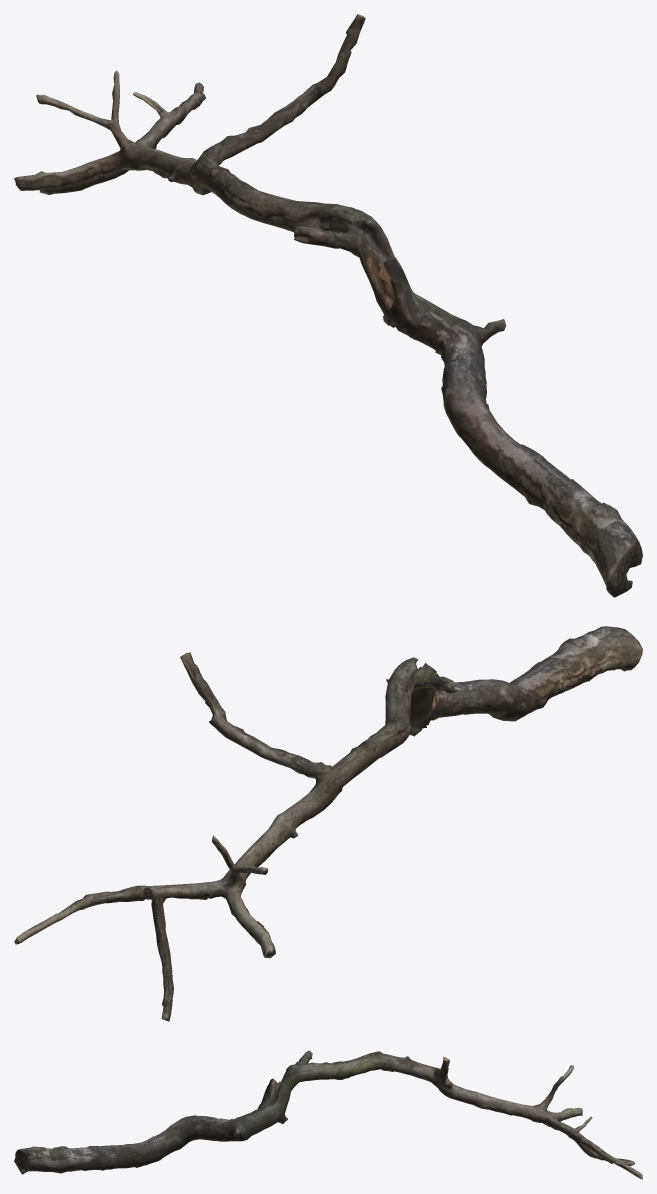
Rendered from galhos_secos.glb.
3 views of the same model, one above another, from view 1: azimuth 30°, elevation 25°; view 2: azimuth 150°, elevation 25°; view 3: azimuth 270°, elevation 25° (orthographic). The views are drawn at different scales.
Parts seen in each view (by area): view 1: dry_branches_medium_01_a; view 2: dry_branches_medium_01_a; view 3: dry_branches_medium_01_a.
Boxes of the visible parts, x1=… form: dry_branches_medium_01_a: x1=14, y1=14, x2=642, y2=597; dry_branches_medium_01_a: x1=14, y1=626, x2=642, y2=1021; dry_branches_medium_01_a: x1=14, y1=1050, x2=642, y2=1179.
Bounding box in the file's own units: 0.3231 × 0.341 × 1.3.
1 material, 1 textured.
